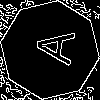A: (25, 25, 76, 66)
